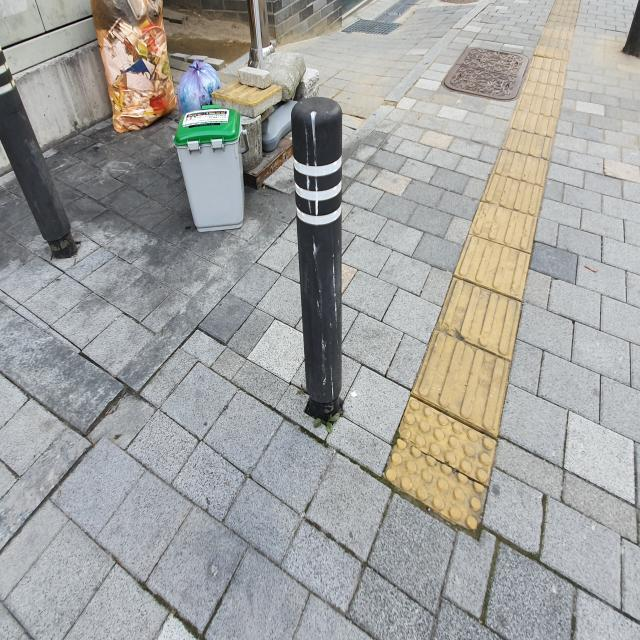pole: (289, 97, 347, 416)
